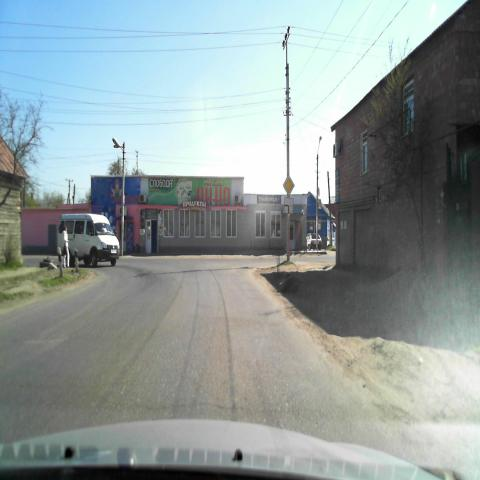2_1: (283, 176, 295, 196)
